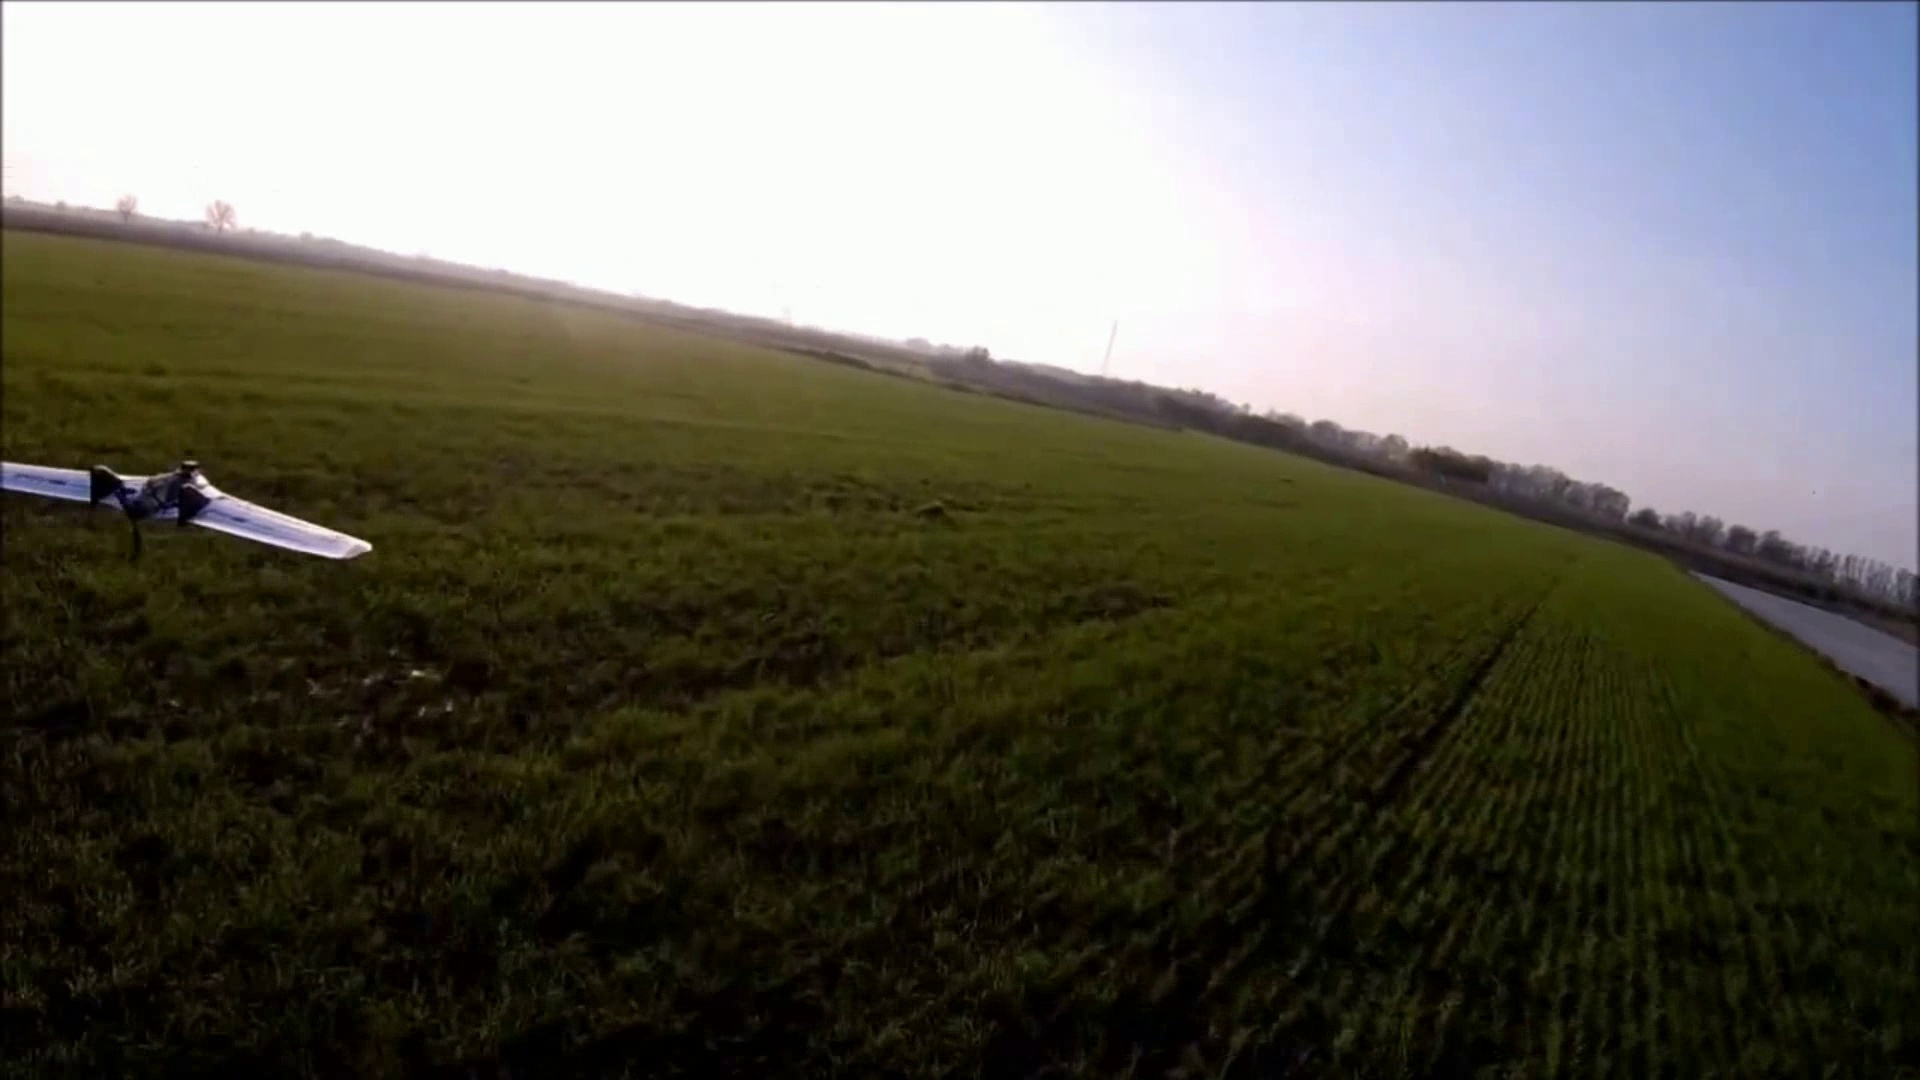airplane: (0, 459, 371, 566)
